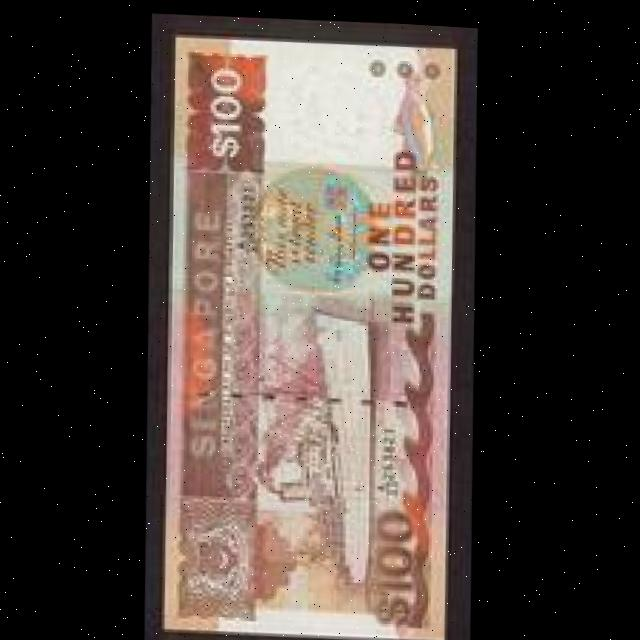banknote: (136, 7, 479, 640), (356, 132, 454, 324), (365, 496, 428, 627), (195, 53, 265, 162)
